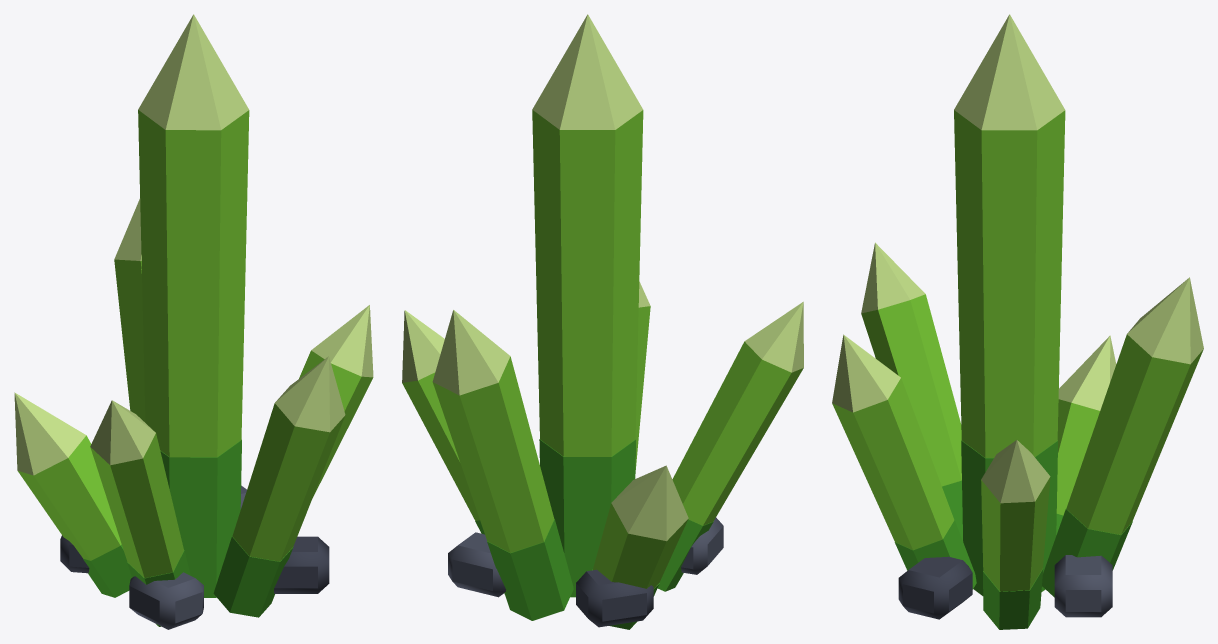
Rendered from p_tree_crystal_2.glb.
3 renders of one model, left to right at view 1: azimuth 30°, elevation 25°; view 2: azimuth 150°, elevation 25°; view 3: azimuth 270°, elevation 25°, orthographic.
Visible parts, largest first — view 1: body; view 2: body; view 3: body.
Boxes of the visible parts, left/top/right/bottom form: body: left=14, top=14, right=373, bottom=629; body: left=402, top=14, right=803, bottom=629; body: left=832, top=14, right=1203, bottom=629.
Size of the model in its own units: 3.32 by 5.54 by 3.2.
